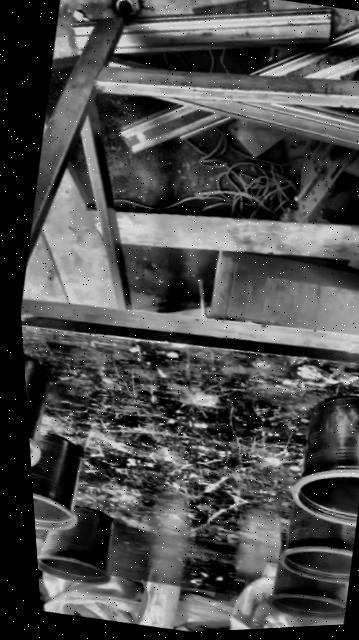pot: (281, 385, 359, 528), (34, 499, 119, 585), (28, 422, 90, 535), (278, 502, 355, 582), (267, 562, 346, 619), (24, 356, 48, 465)
